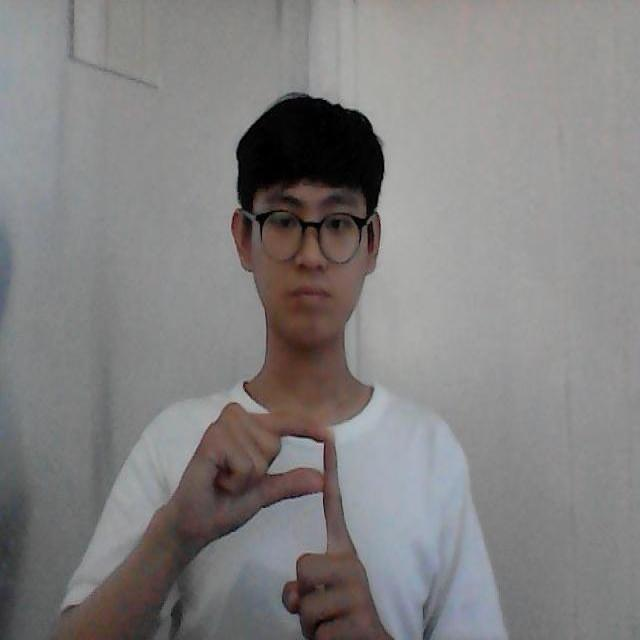P: (206, 396, 372, 640)
